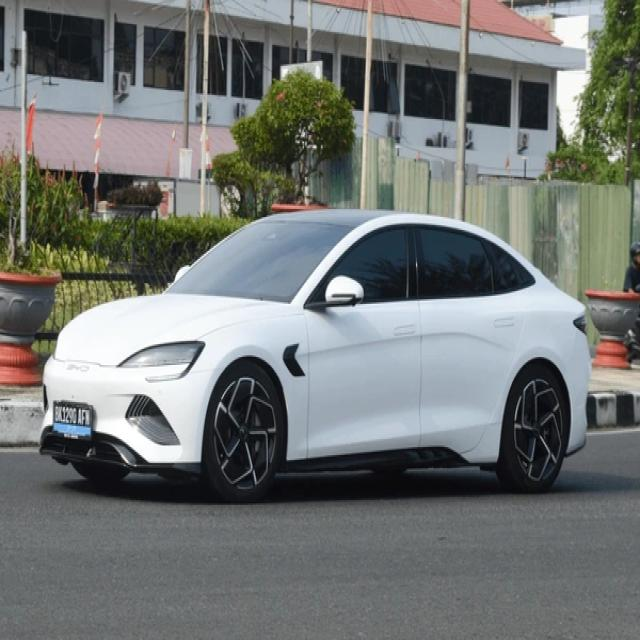byd: (64, 358, 98, 381)
